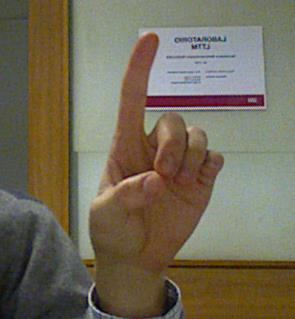up: (86, 33, 227, 256)
